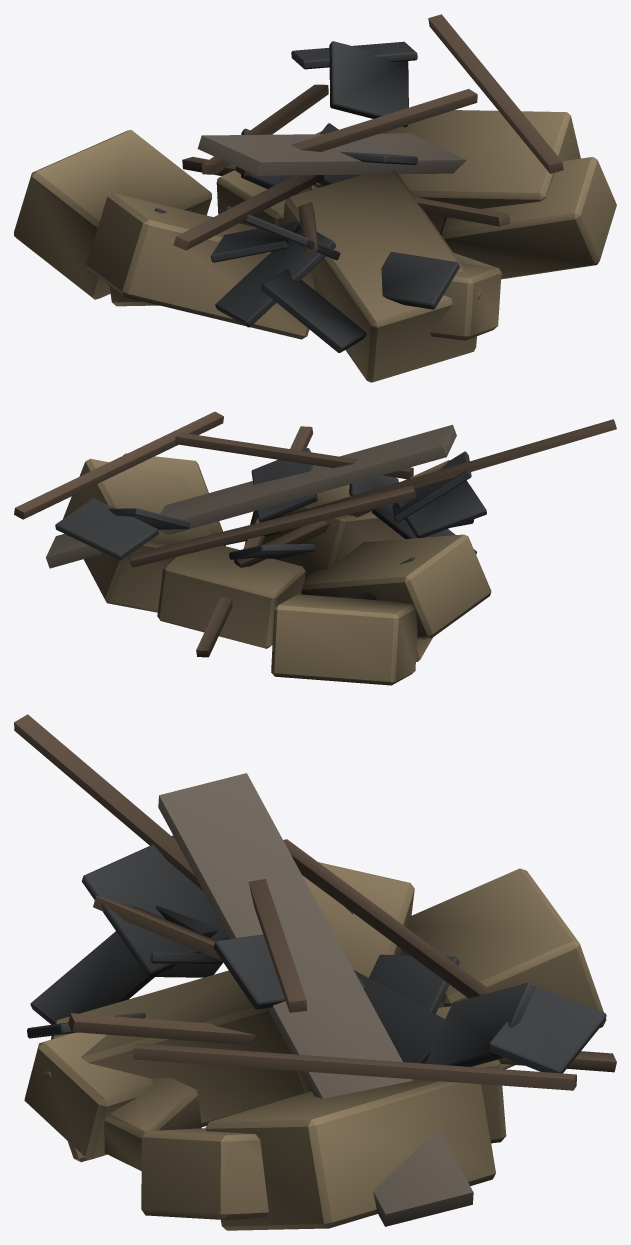
The model's file is prop.debris.mo.glb.
3 renders of one model, top to bottom at view 1: azimuth 30°, elevation 25°; view 2: azimuth 150°, elevation 25°; view 3: azimuth 270°, elevation 25°, orthographic. The views are drawn at different scales.
Parts seen in each view (by area): view 1: LOD0; view 2: LOD0; view 3: LOD0.
Part boxes in pixels (x1,y1,x2,y2): LOD0: (14,14,616,382); LOD0: (14,411,616,685); LOD0: (14,714,616,1230).
Size of what is drawn, in the model's own units: 1.28 by 0.5364 by 1.02.
